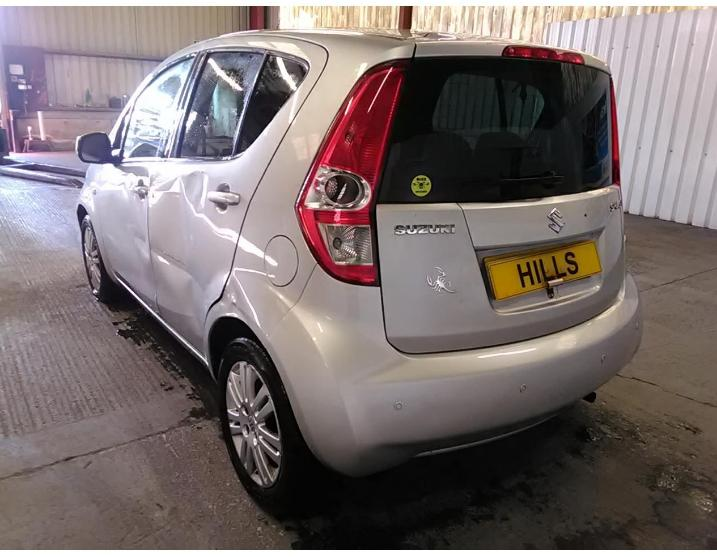Back-bumper: (264, 264, 644, 478)
Back-door: (149, 35, 329, 358)
Back-wheel: (217, 336, 314, 511)
Back-window: (181, 52, 264, 156), (235, 54, 306, 155)
Back-windshield: (377, 55, 613, 204)
Fender: (76, 163, 119, 285), (109, 86, 139, 147)
Front-door: (98, 40, 208, 317)
Front-wheel: (81, 214, 114, 303)
Front-window: (122, 58, 194, 157), (112, 110, 129, 150)
License-plate: (483, 240, 602, 300)
Mirror: (75, 131, 124, 165)
Quarter-panel: (203, 185, 318, 368)
Rocker-panel: (106, 264, 218, 385)
Roof: (201, 28, 528, 65)
Tail-light: (294, 58, 412, 288), (610, 78, 621, 186)
Trunk: (376, 183, 627, 354), (413, 42, 612, 76)
